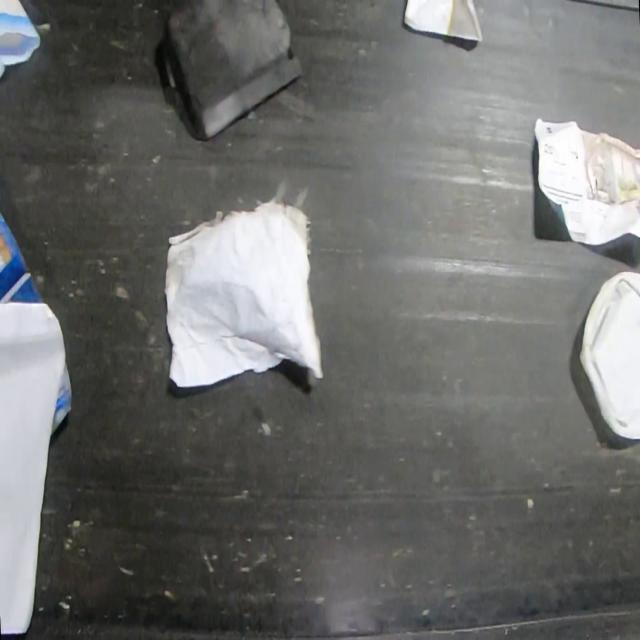rigid_plastic: (161, 0, 306, 141), (580, 269, 640, 441)
